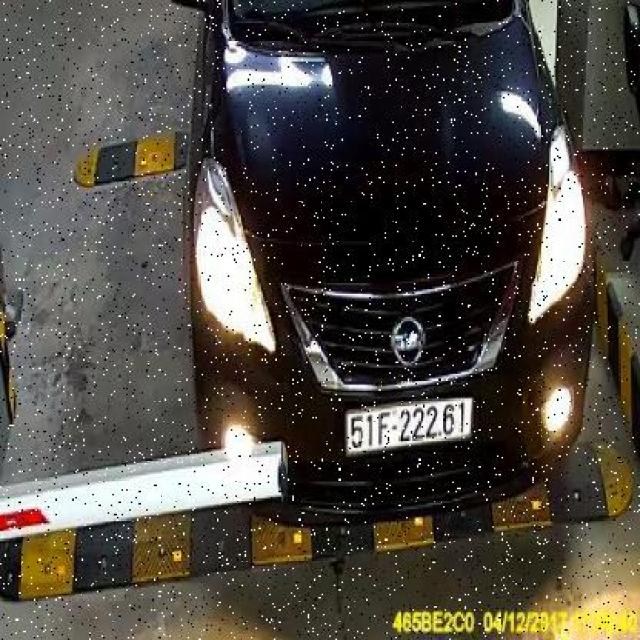number_plate: (339, 398, 487, 452)
